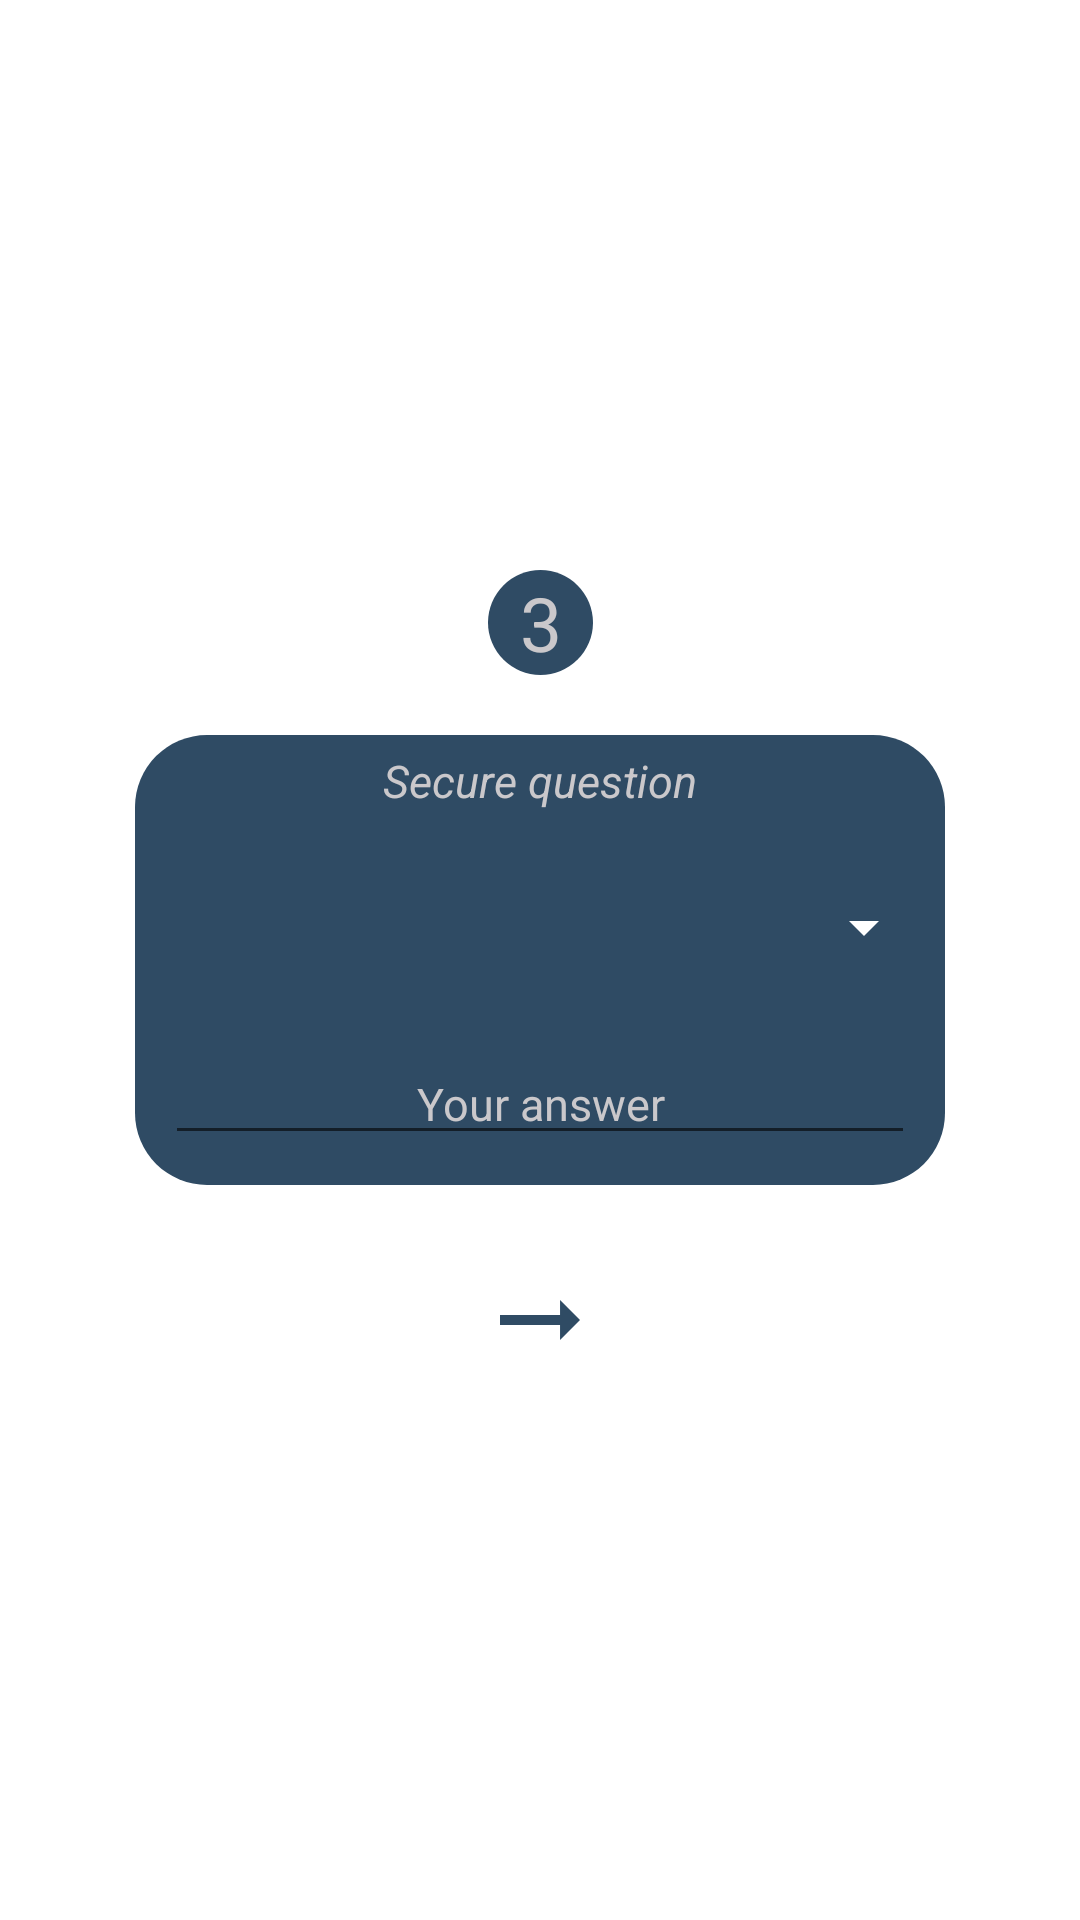

Icon bounding boxes for this 1080 x 1920 phone screenshot, format (x1, y1, x2, y2):
arrow right: (500, 1300, 580, 1340)
